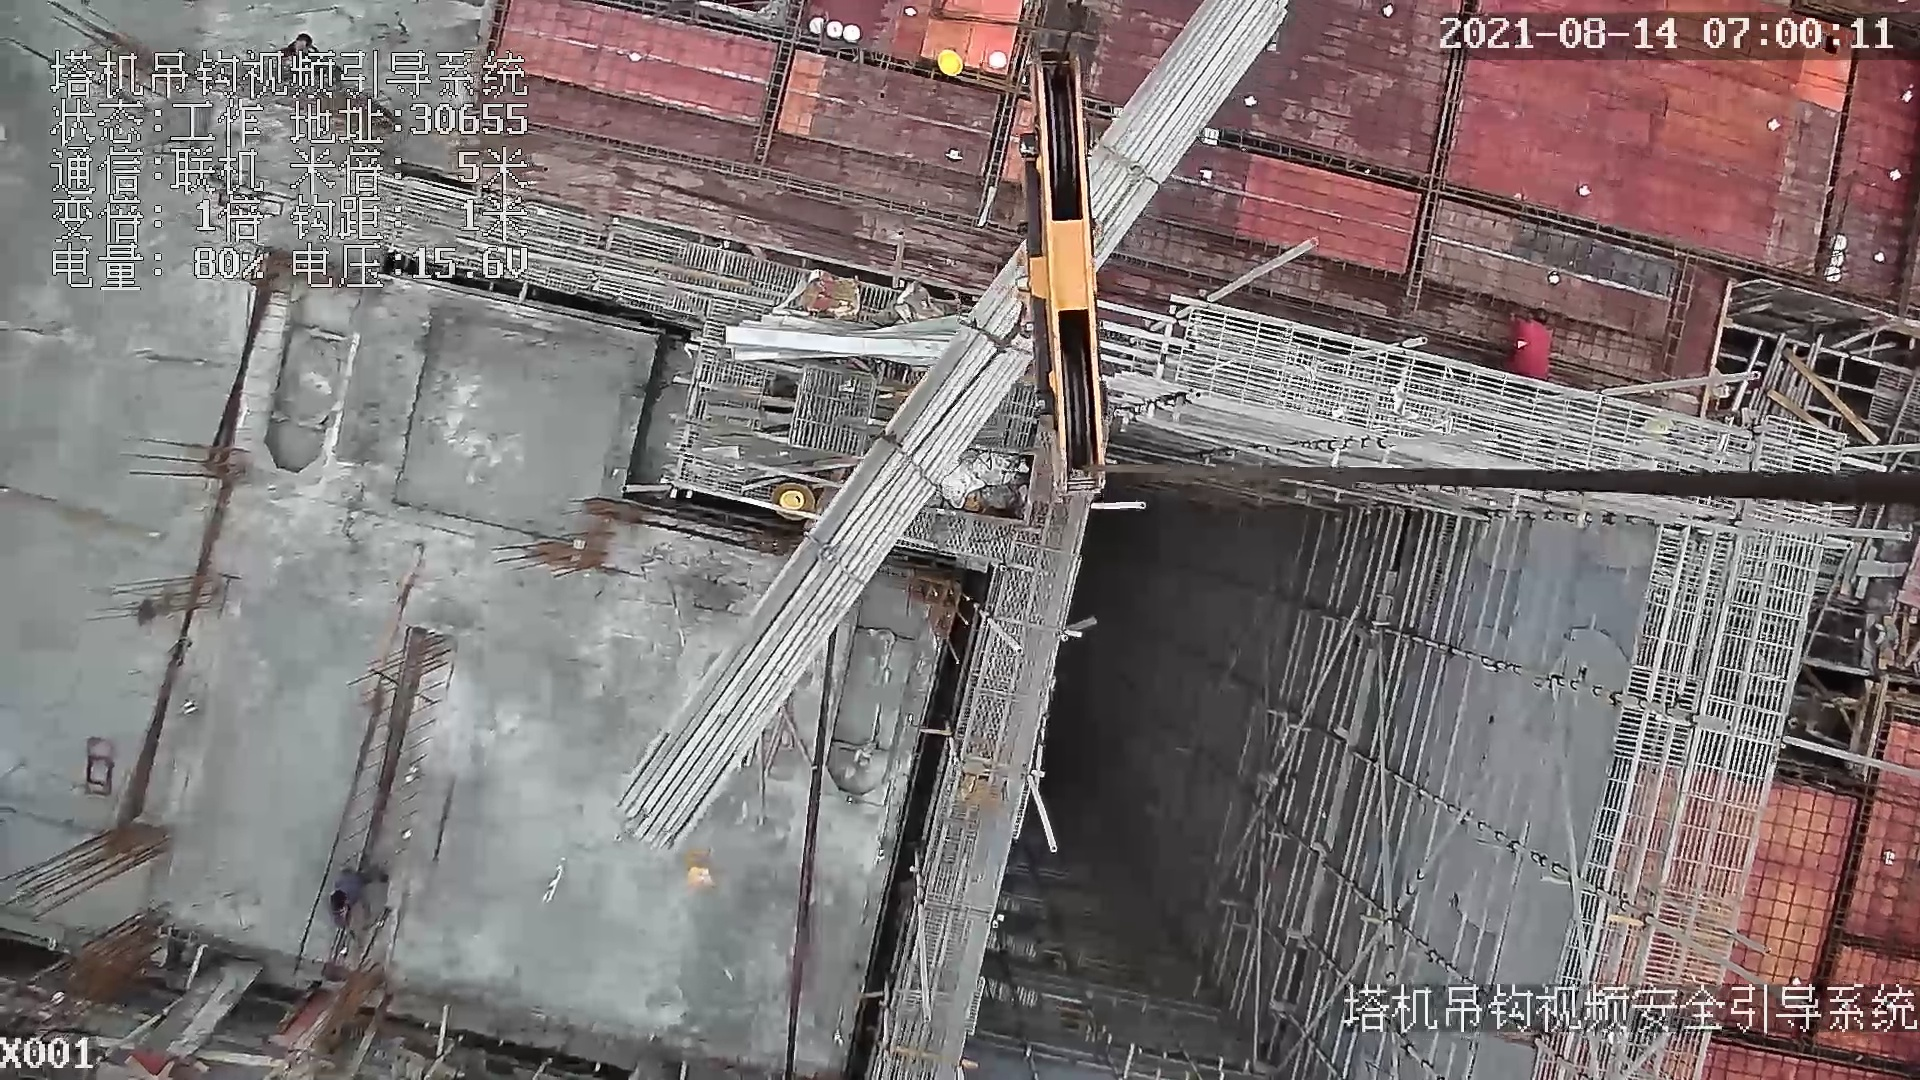helmet: (937, 49, 963, 77), (780, 491, 804, 509)
hook: (997, 47, 1120, 503)
person: (1508, 304, 1564, 389), (328, 866, 388, 939)
rebar: (612, 1, 1297, 850)
